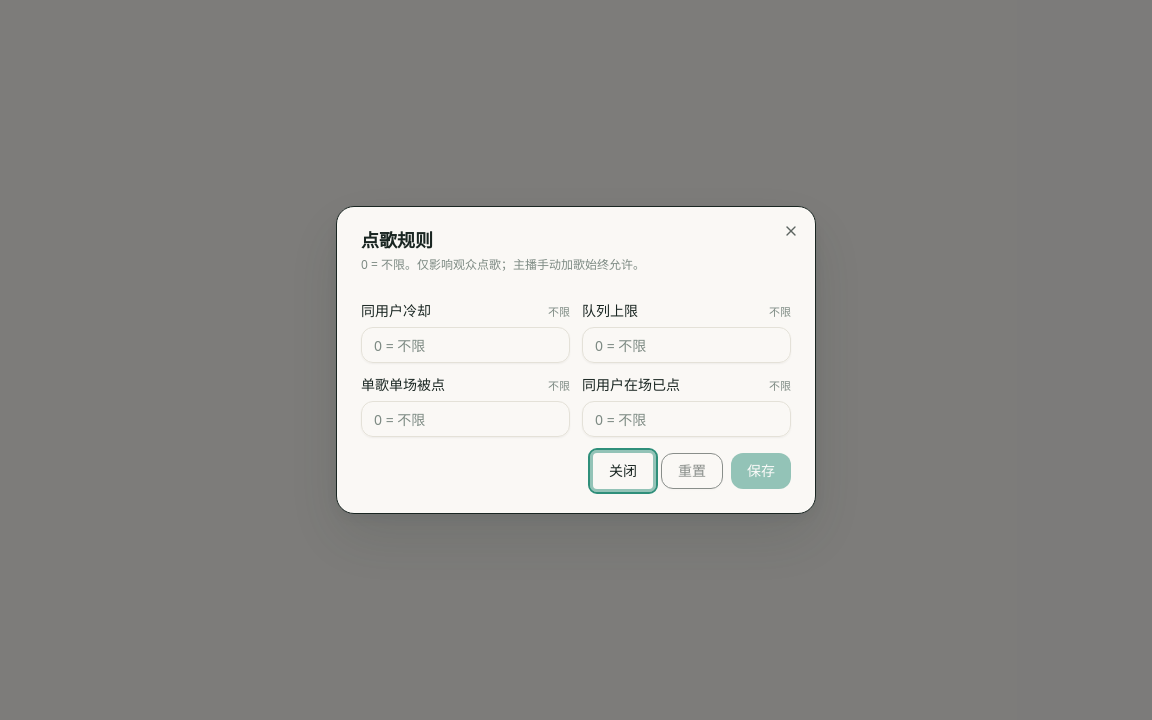
Test: PolicyDialog - 点歌条件配置（M2.4） › 点重置 → draft 回到 server 值
Type "30" into the number field with test id "policy-input-cooldown_seconds_per_user" at (466, 345), box [361,327,570,363]
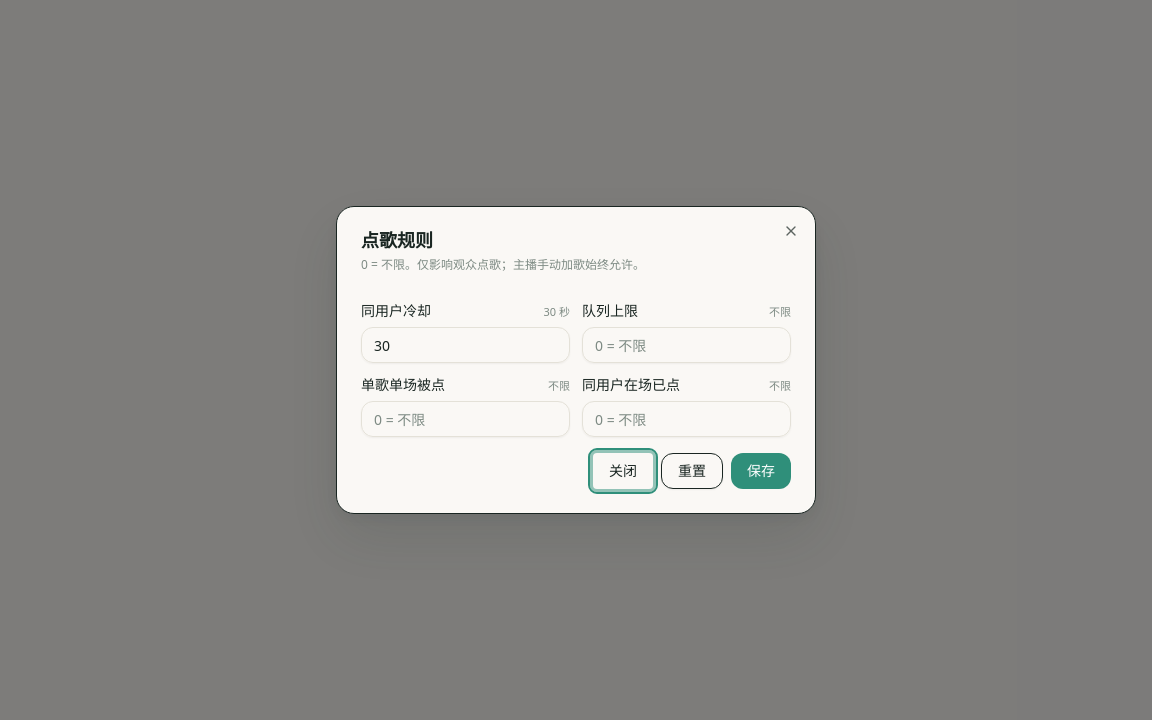
Click the button with test id "policy-reset-button" at (692, 471), box [661,453,723,489]
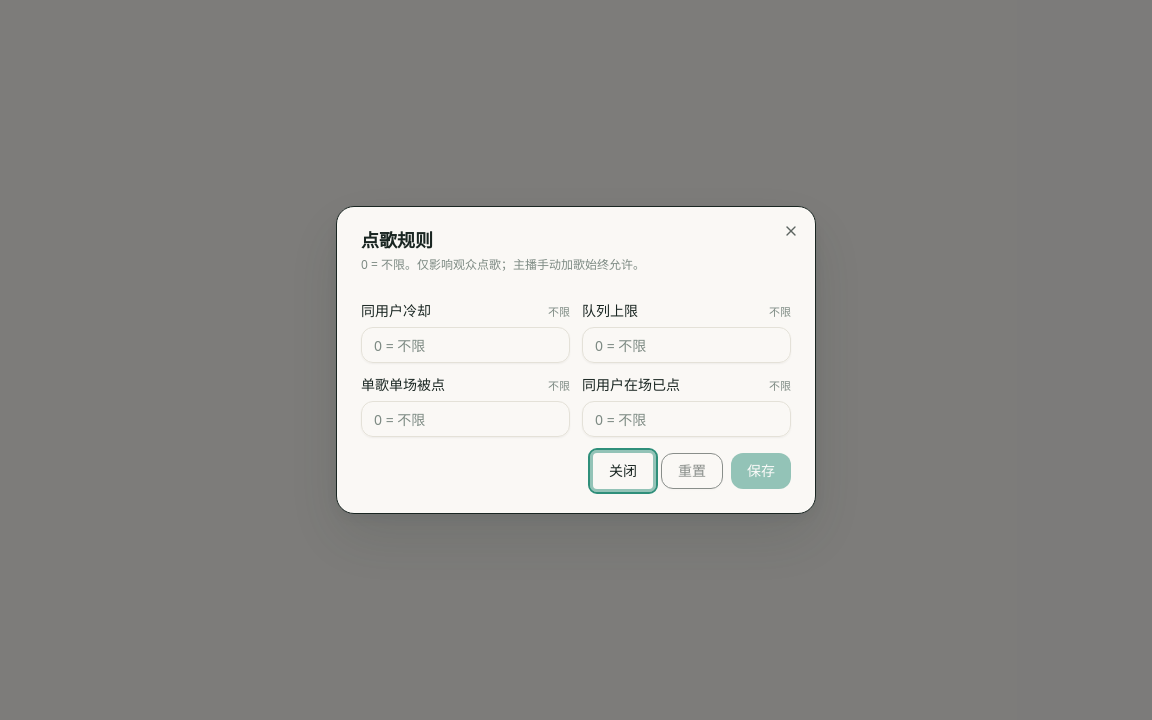
Now the number field with test id "policy-input-cooldown_seconds_per_user" is empty, box [361,327,570,363]
